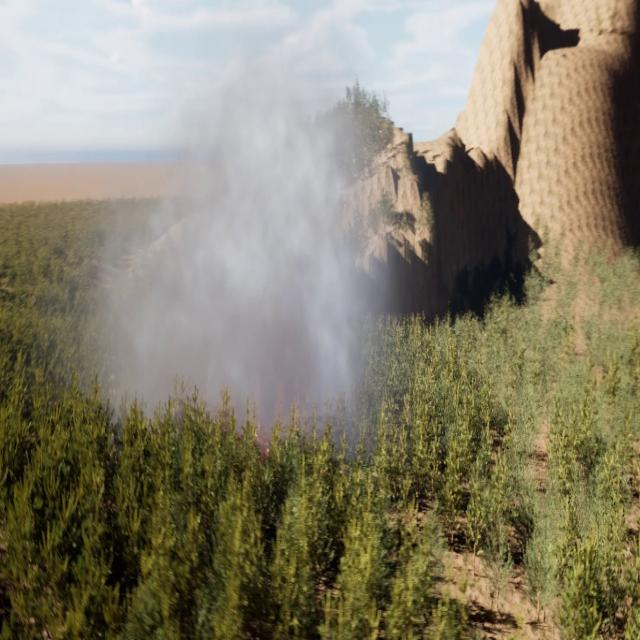smoke: (32, 10, 401, 458)
